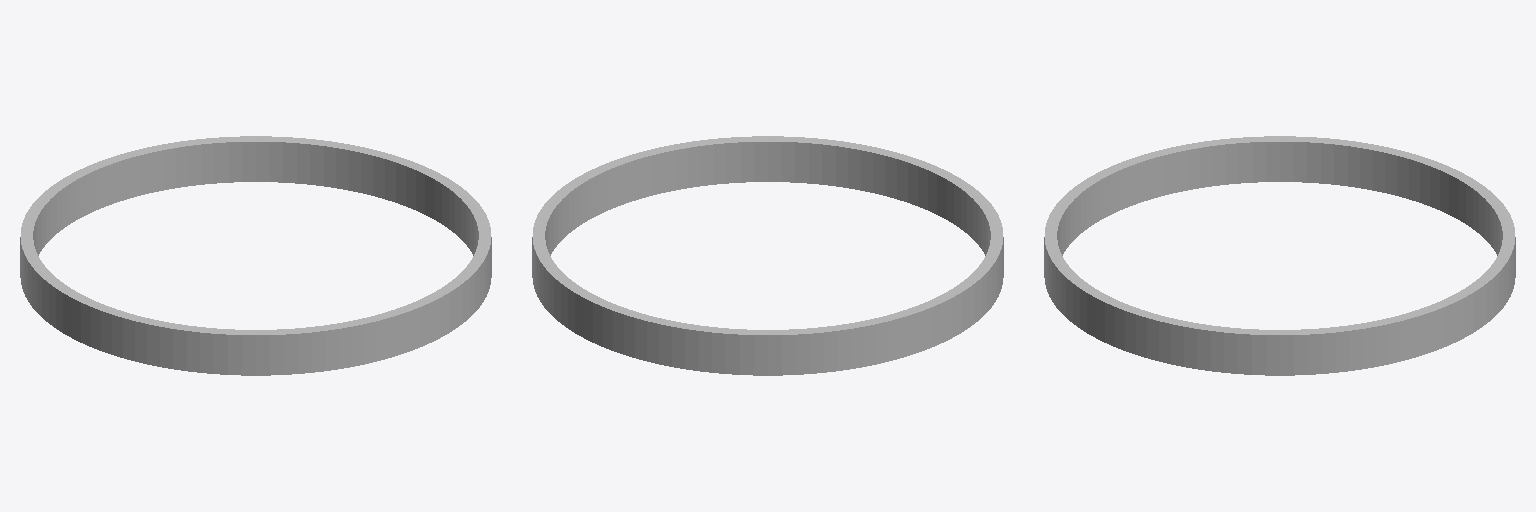
URDF robot description (boundary):
<?xml version="1.0" encoding="utf-8"?>

<robot name="boundary">
  <link name="base"/>

  <material name="stage_material">
    <color rgba="0.8 0.8 0.8 1.0"/>
  </material>
  
  <link name="boundary_link">
    <visual>
      <origin rpy="0 0 0" xyz="0 0 0"/>
      <geometry>
        <mesh filename="./object_mesh/boundary_no_bottom.stl" scale="0.001 0.001 0.001"/>
      </geometry>
      <material name="stage_material"/>
    </visual>

    <collision>
      <origin rpy="0 0 0" xyz="0 0 0"/>
      <geometry>
        <mesh filename="./object_mesh/boundary_no_bottom.stl" scale="0.001 0.001 0.001"/>
      </geometry>
    </collision>

    <inertial>
      <origin rpy="0 0 0" xyz="0 0 0"/>
      <mass value="1000"/>
      <inertia ixx="0.00770833333333" ixy="0" ixz="0" iyy="0.00770833333333" iyz="0" izz="0.015"/>
    </inertial>
  </link>

  <joint name="base_to_boundary" type="fixed">
    <parent link="base"/>
    <child link="boundary_link"/>
    <origin xyz="0 0 0.02"/>
  </joint>
</robot>

--- What the picture shows (computed from the rendered views, not written in the file) ---
The picture shows the robot from 3 angles, left to right: view 1: azimuth 30°, elevation 25°; view 2: azimuth 150°, elevation 25°; view 3: azimuth 270°, elevation 25°; orthographic projection.
Model boundary with 2 links and 1 joints (1 fixed), rooted at base, posed all joints at 0.
Links seen in each view (by area): view 1: boundary_link; view 2: boundary_link; view 3: boundary_link.
Link boxes in pixels (x1=…): boundary_link: x1=20, y1=136, x2=491, y2=375; boundary_link: x1=532, y1=136, x2=1003, y2=375; boundary_link: x1=1044, y1=136, x2=1515, y2=375.
Bounding box of the posed robot: 0.7398 × 0.7399 × 0.07 m (x, y, z).
Meshes: 1 distinct files referenced, 1 mesh visuals loaded (1 binary STL).